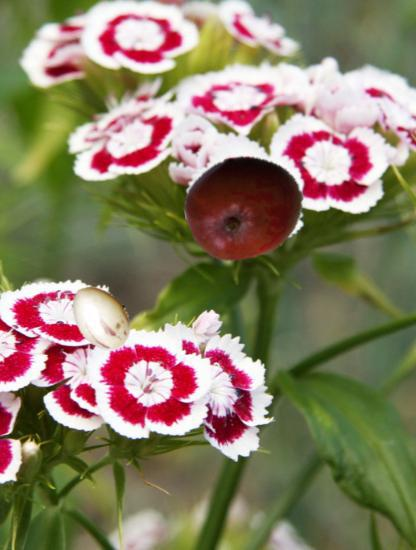Mango: (184, 148, 305, 269)
Pepino: (66, 282, 138, 354)
